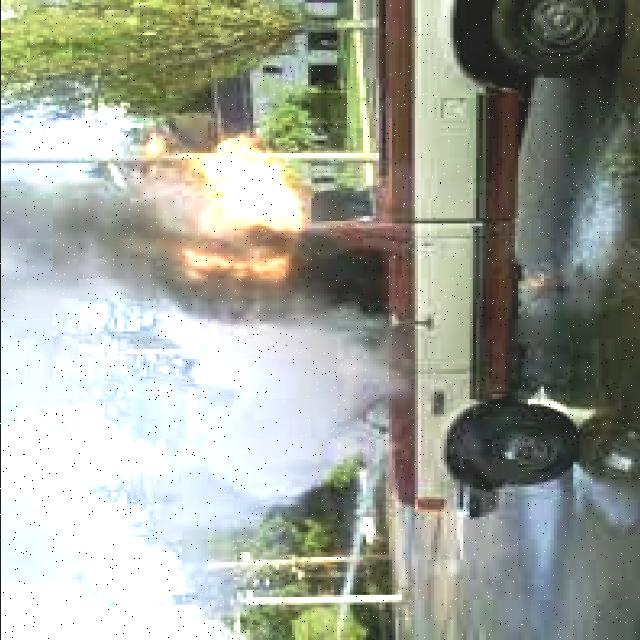api: (153, 134, 315, 312)
